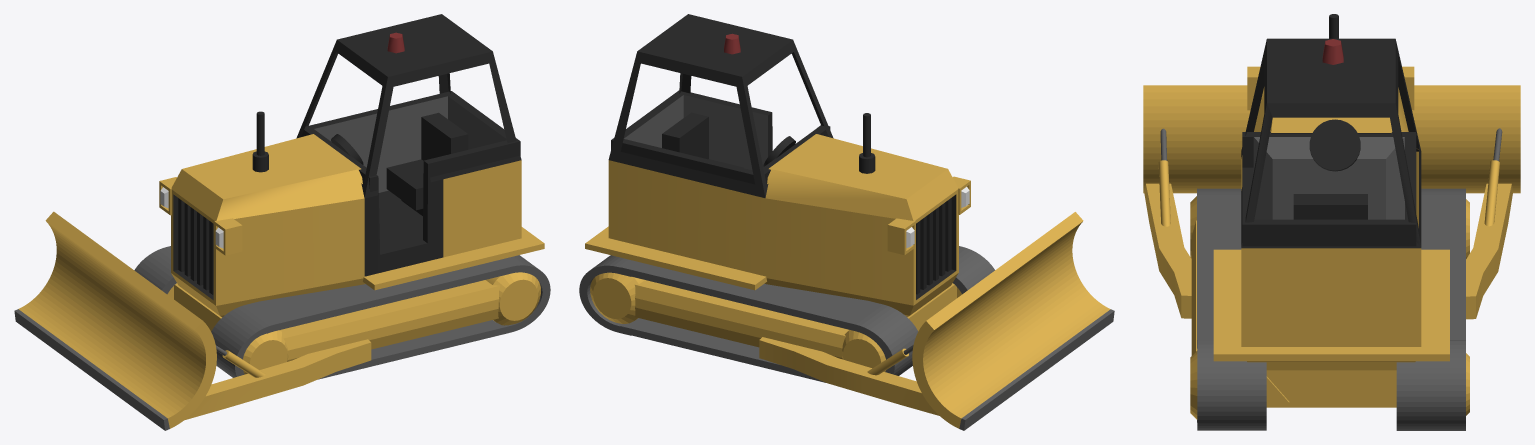
Rendered from Bulldozer01.fbx.
3 views of the same model, side by side, from view 1: azimuth 30°, elevation 25°; view 2: azimuth 150°, elevation 25°; view 3: azimuth 270°, elevation 25° (orthographic). The views are drawn at different scales.
Visible parts, largest first — view 1: Bulldozer_1375:Box003; view 2: Bulldozer_1375:Box003; view 3: Bulldozer_1375:Box003.
Boxes of the visible parts, x1=… form: Bulldozer_1375:Box003: x1=14, y1=14, x2=550, y2=430; Bulldozer_1375:Box003: x1=579, y1=14, x2=1114, y2=430; Bulldozer_1375:Box003: x1=1143, y1=14, x2=1520, y2=430.
Size of the model in its own units: 8.8 by 5.61 by 5.58.
